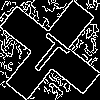T: (25, 25, 78, 79)
